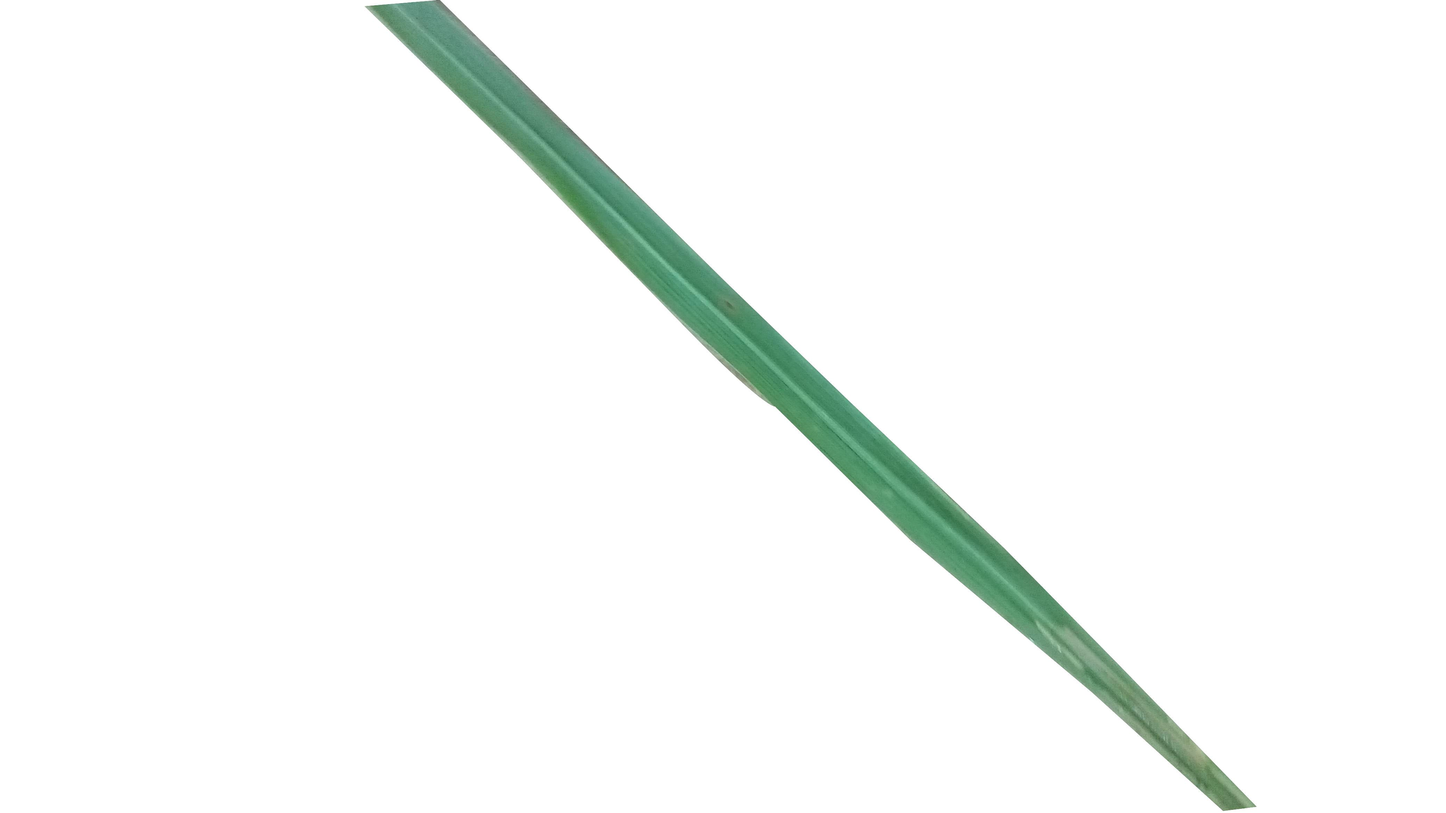Brown spot: (718, 292, 736, 320)
